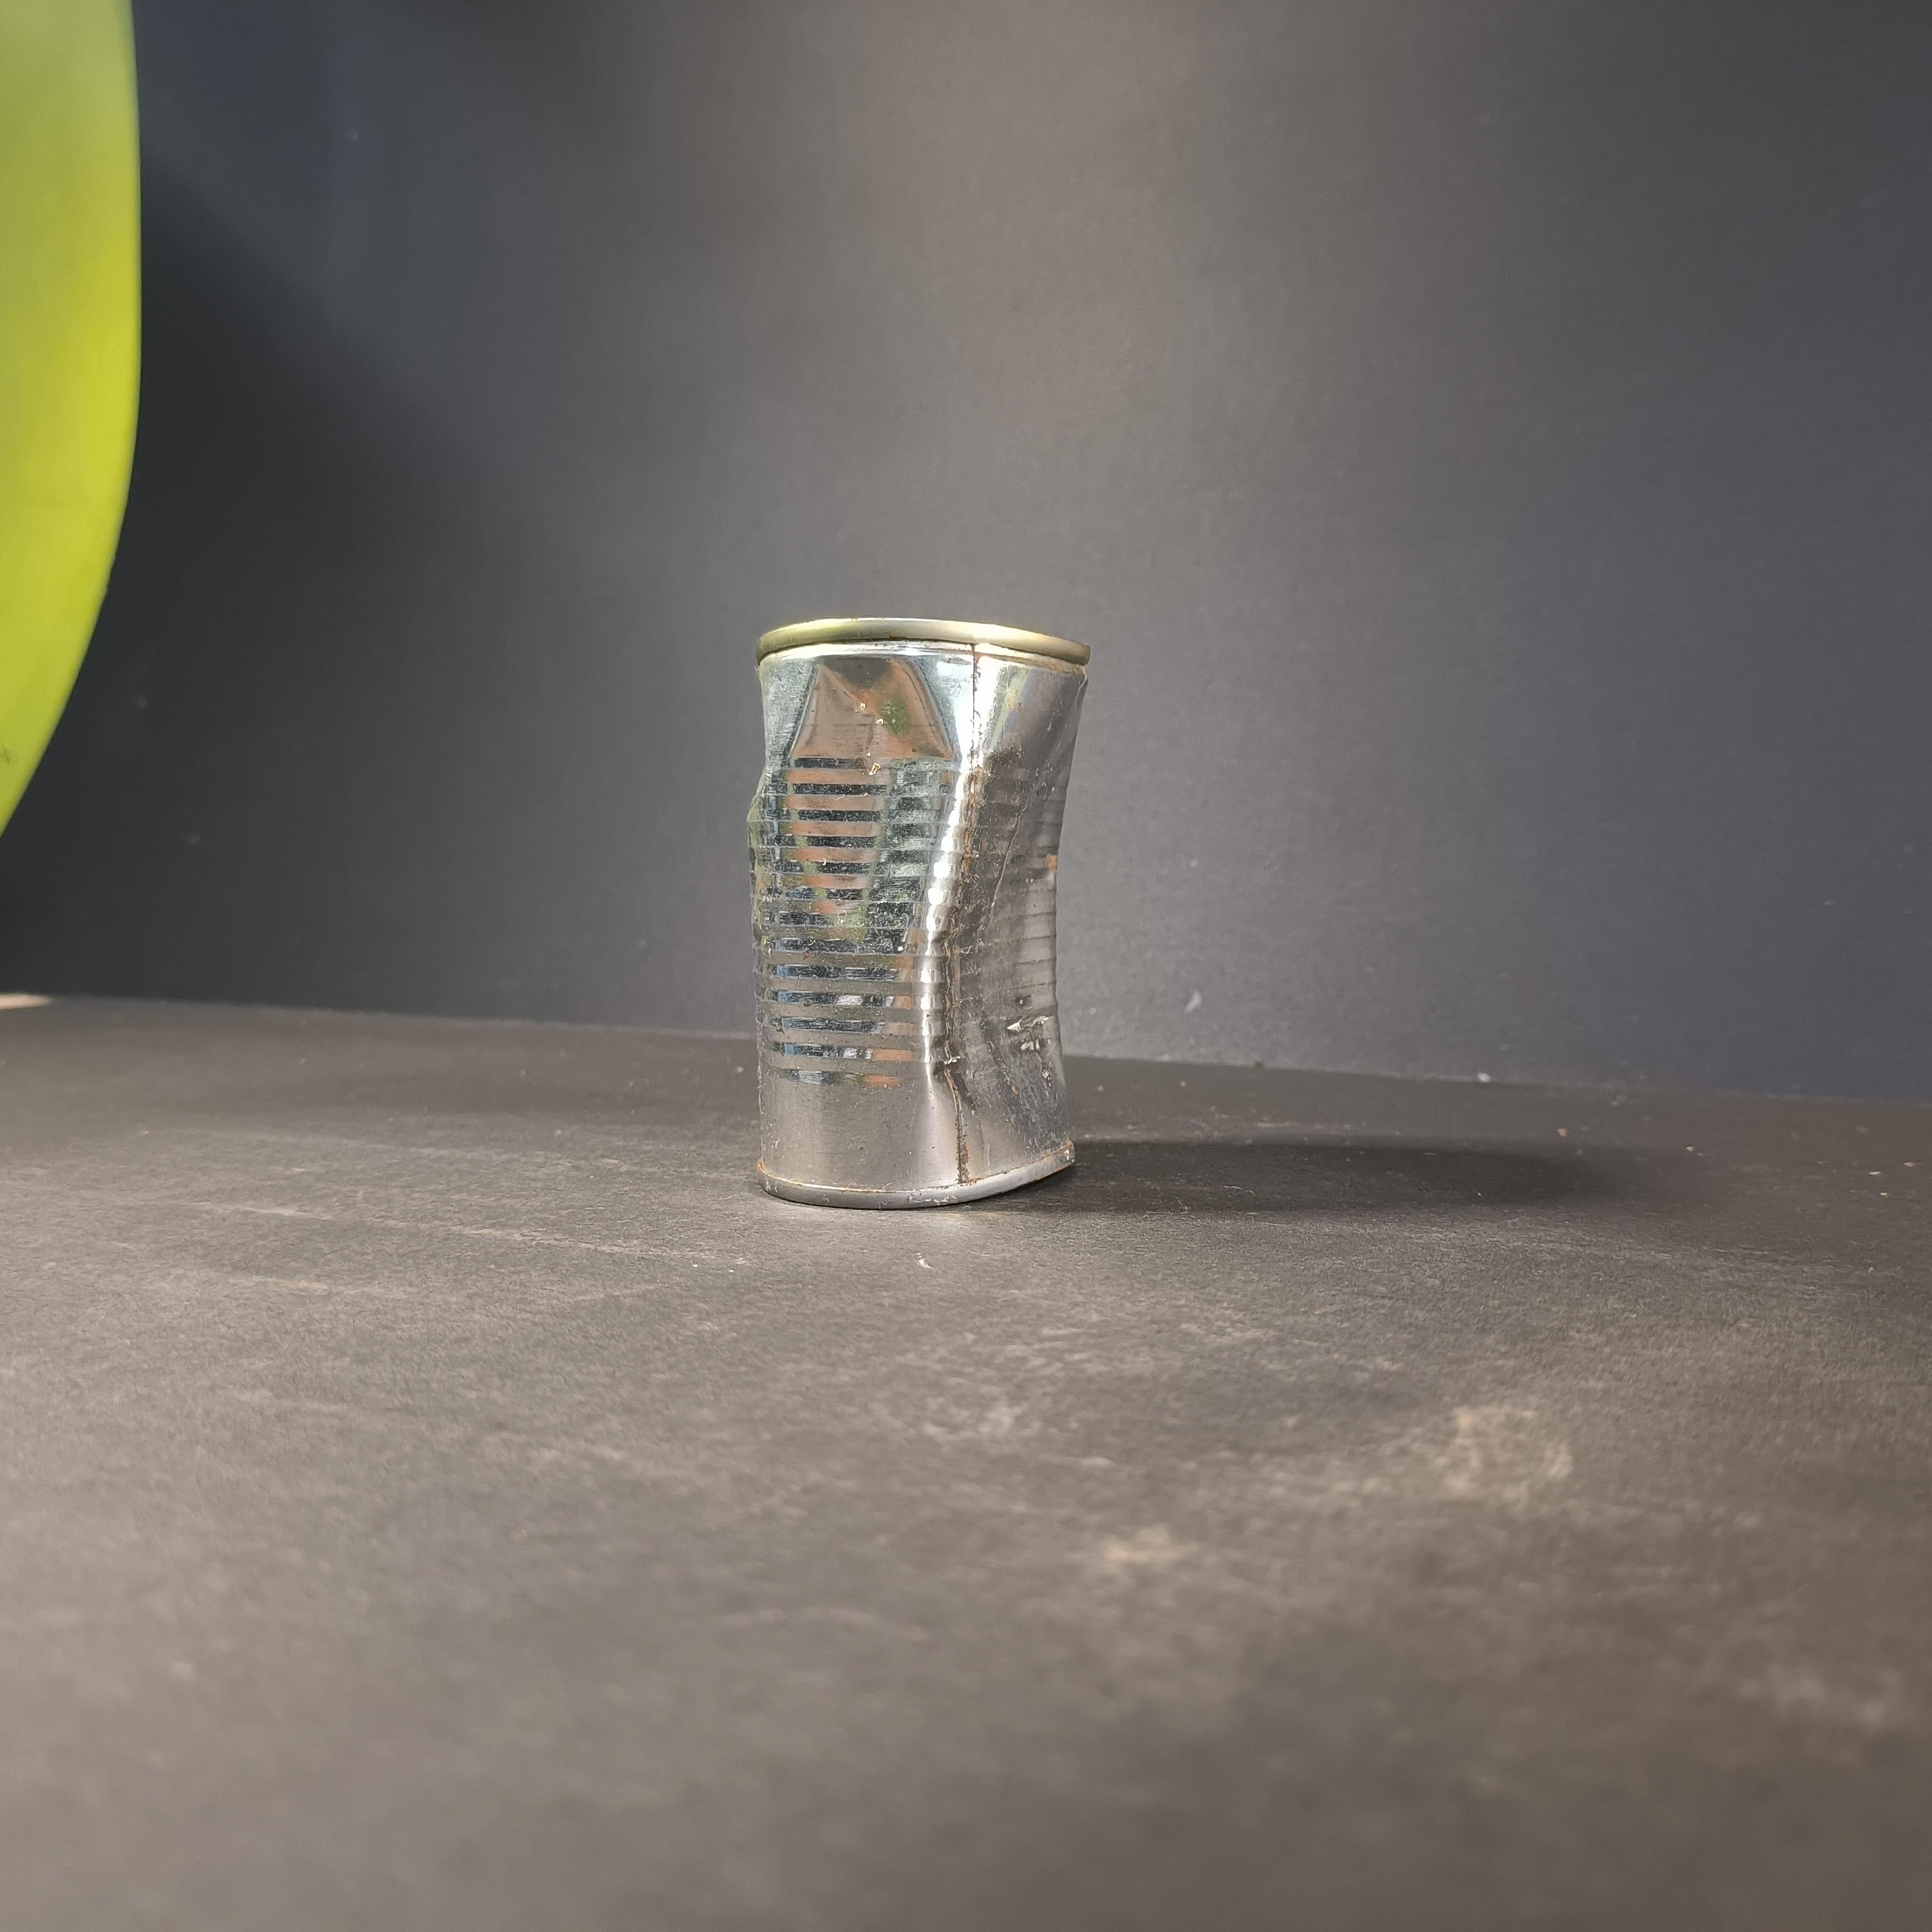Dented: (729, 602, 1123, 1214)
